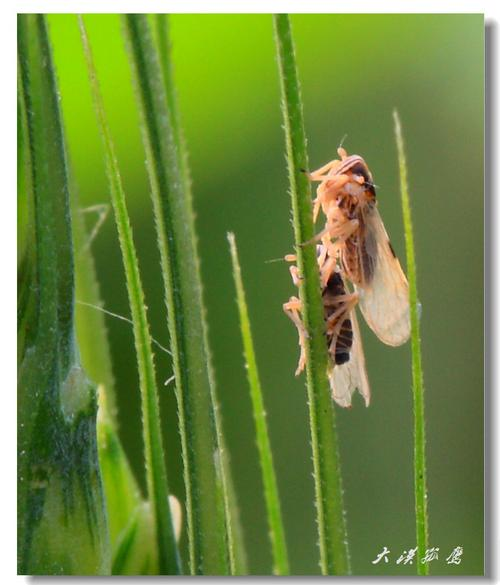Delphacidae: (298, 130, 422, 347), (264, 241, 371, 410)
